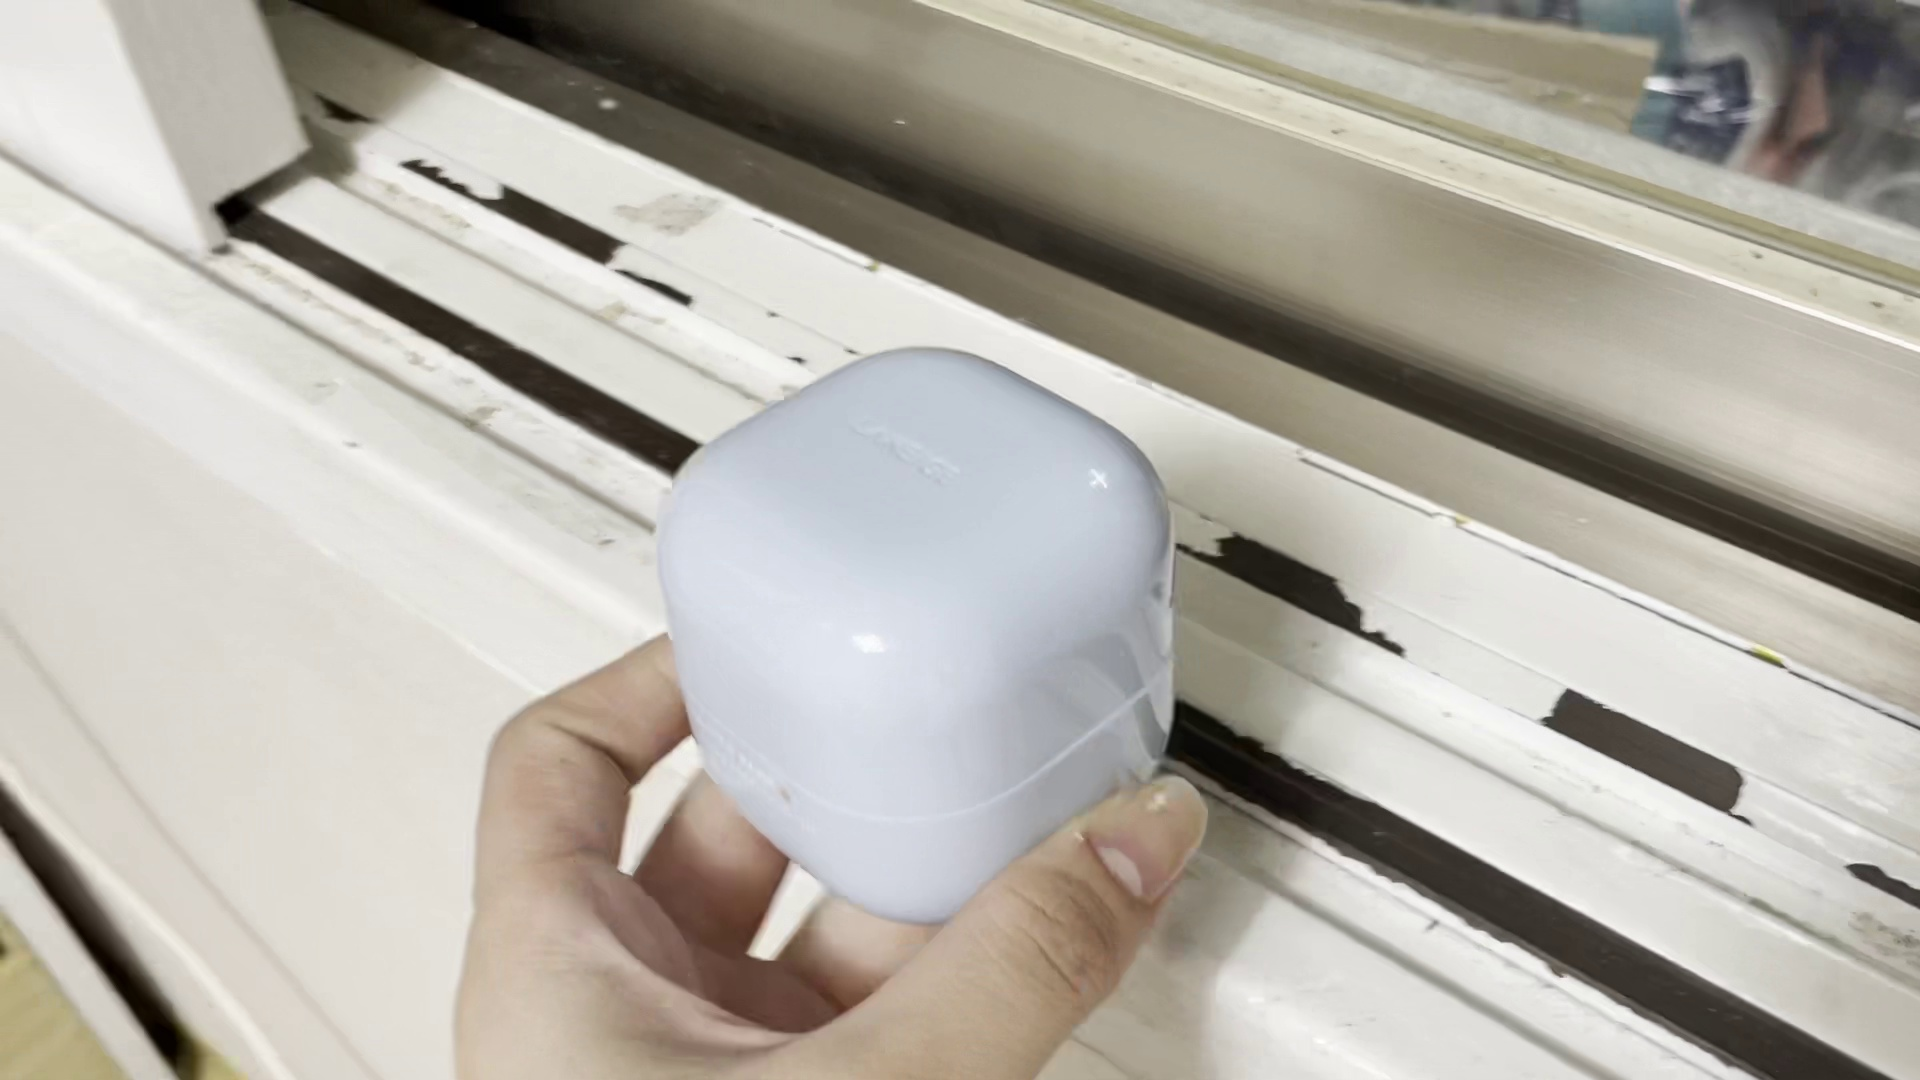cream: (659, 349, 1175, 913)
